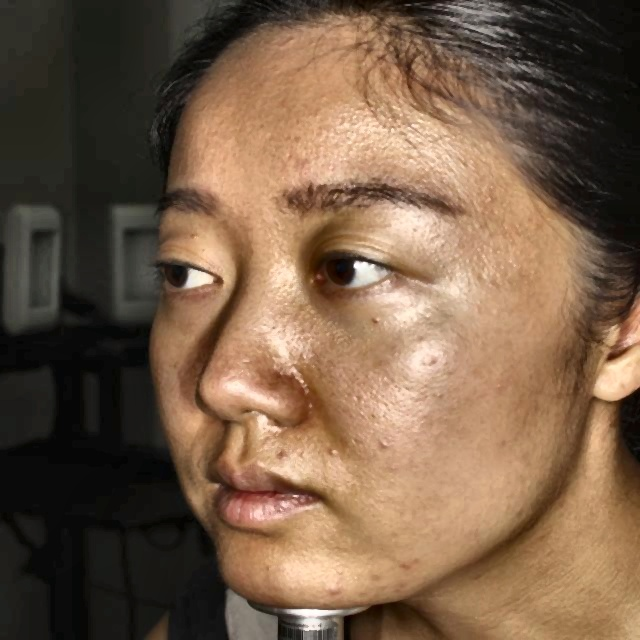comedone: (392, 550, 428, 576), (324, 576, 350, 600)
